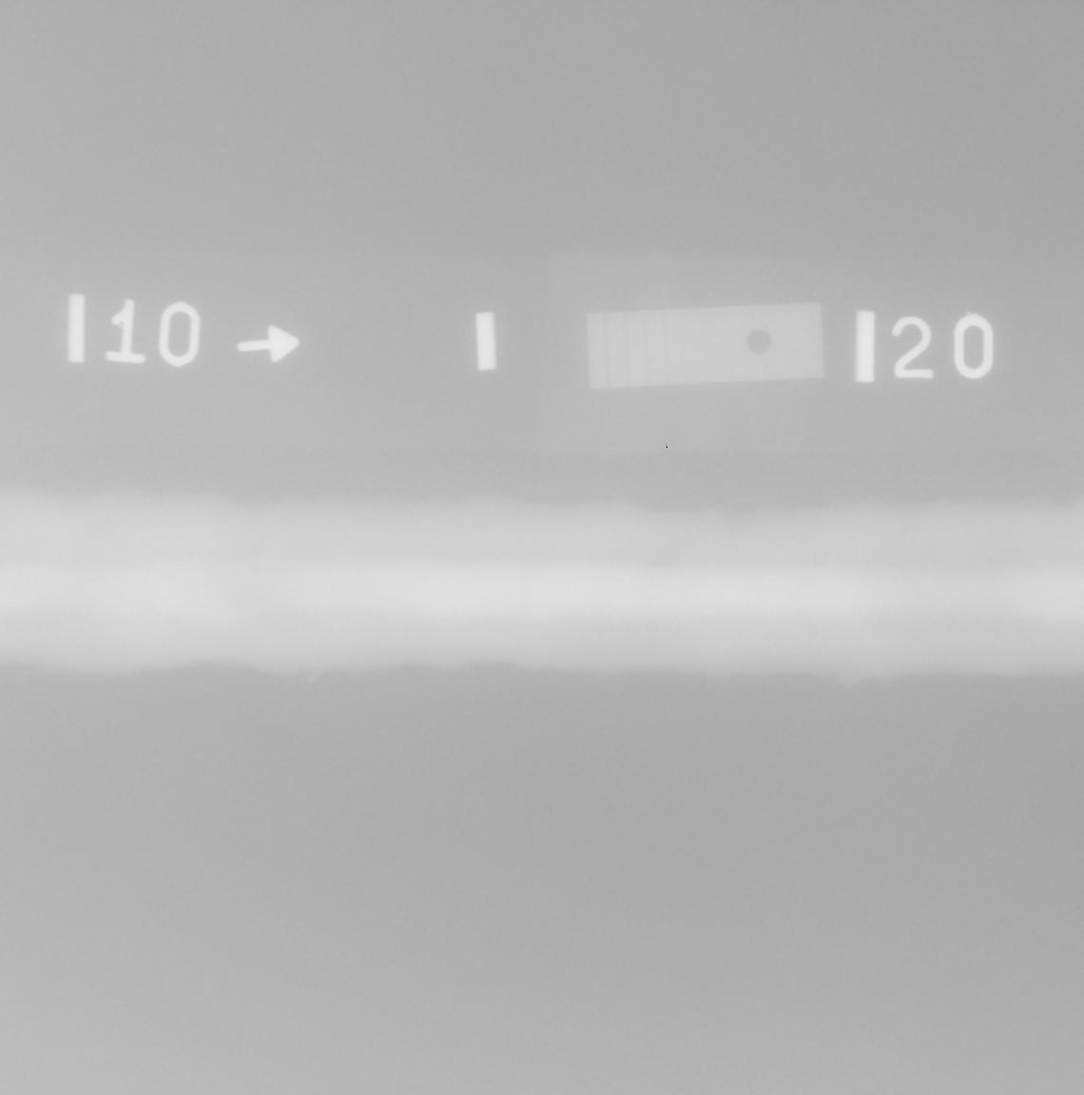Pore/Porosity: (356, 569, 362, 578), (237, 599, 241, 604)
Reference Standard 1: (586, 302, 824, 388)
